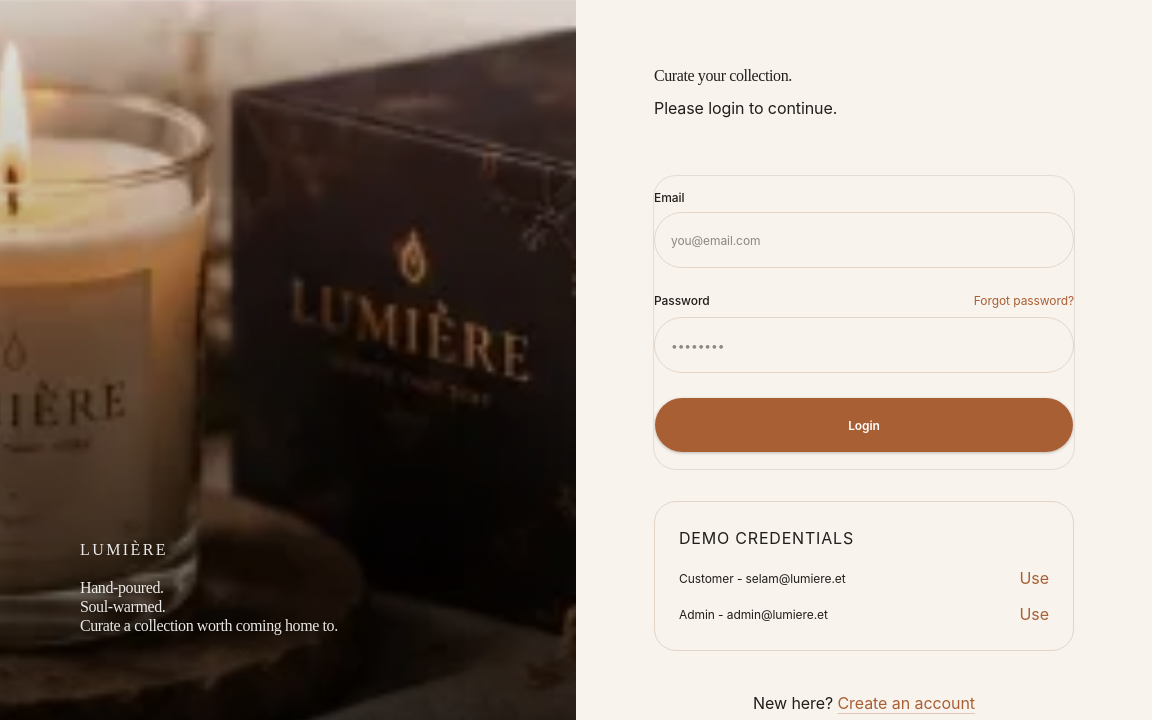
it: LoginPage › blocks submit on an empty password
In the field labelled "Email": coordinates (864, 240) [654,212,1074,268], type "jane@example.com"
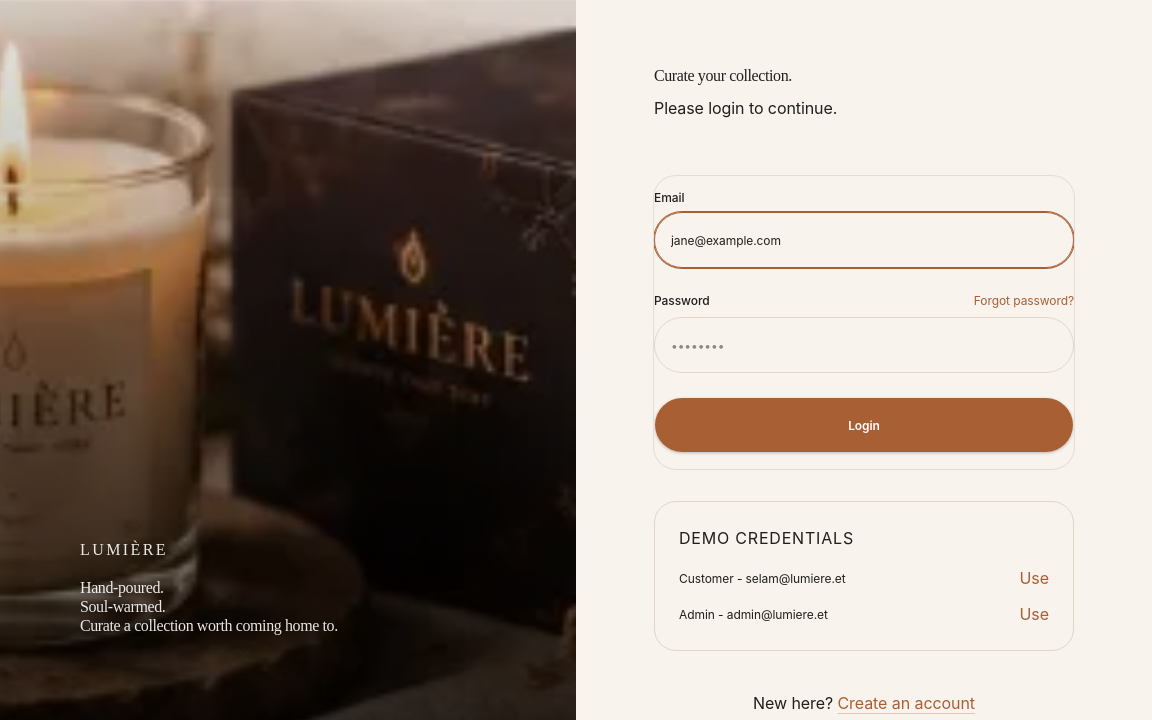
Click the button "Login": coordinates (864, 425) [654,397,1074,453]
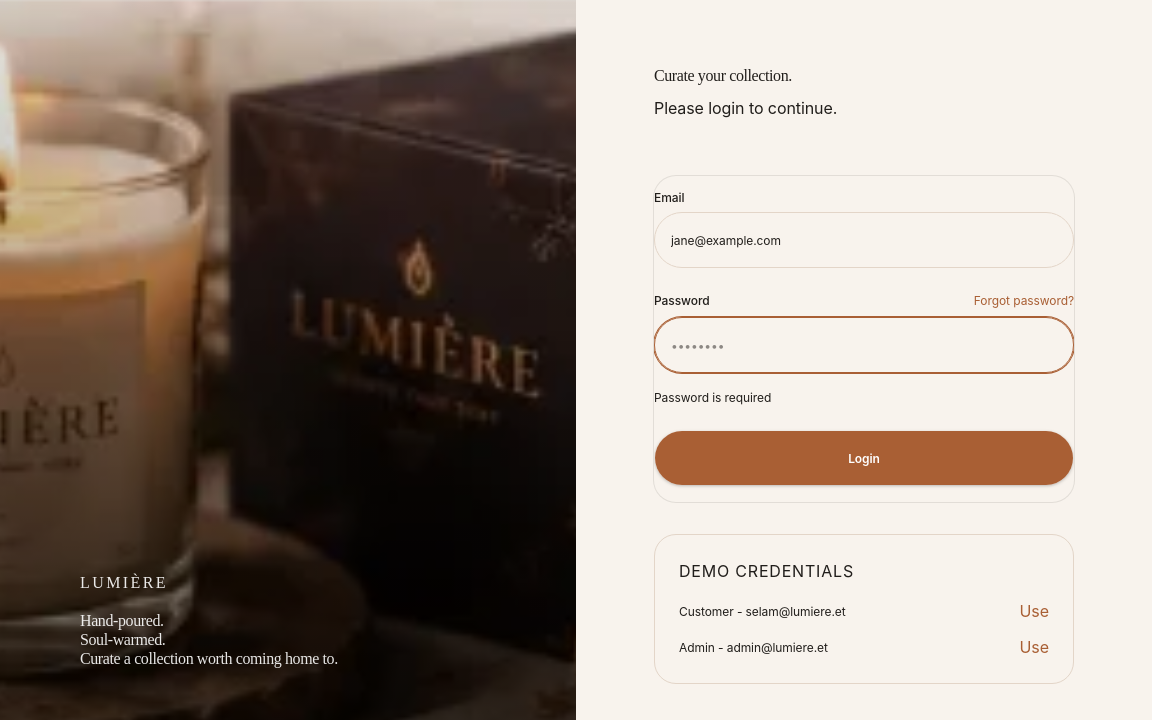
Expected: the text "Password is required" is shown, [654,390,771,405]
